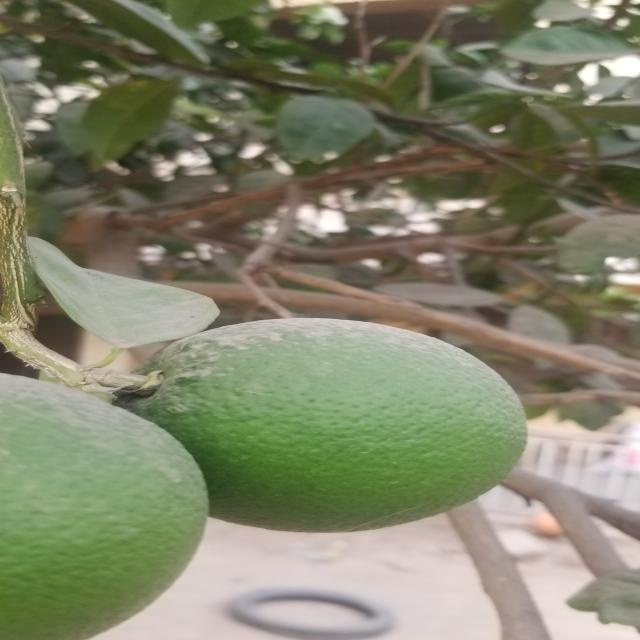agrume: (107, 316, 525, 535), (0, 368, 216, 640)
